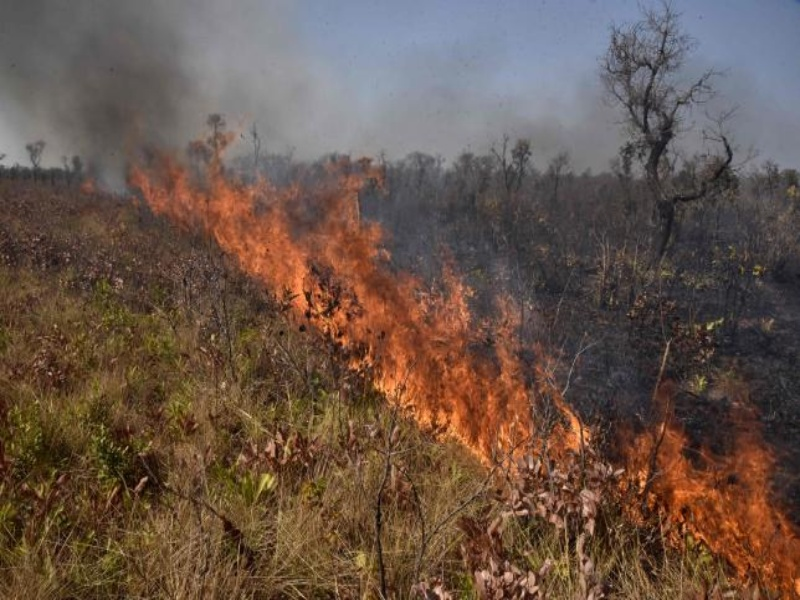smoke: (1, 1, 315, 157)
